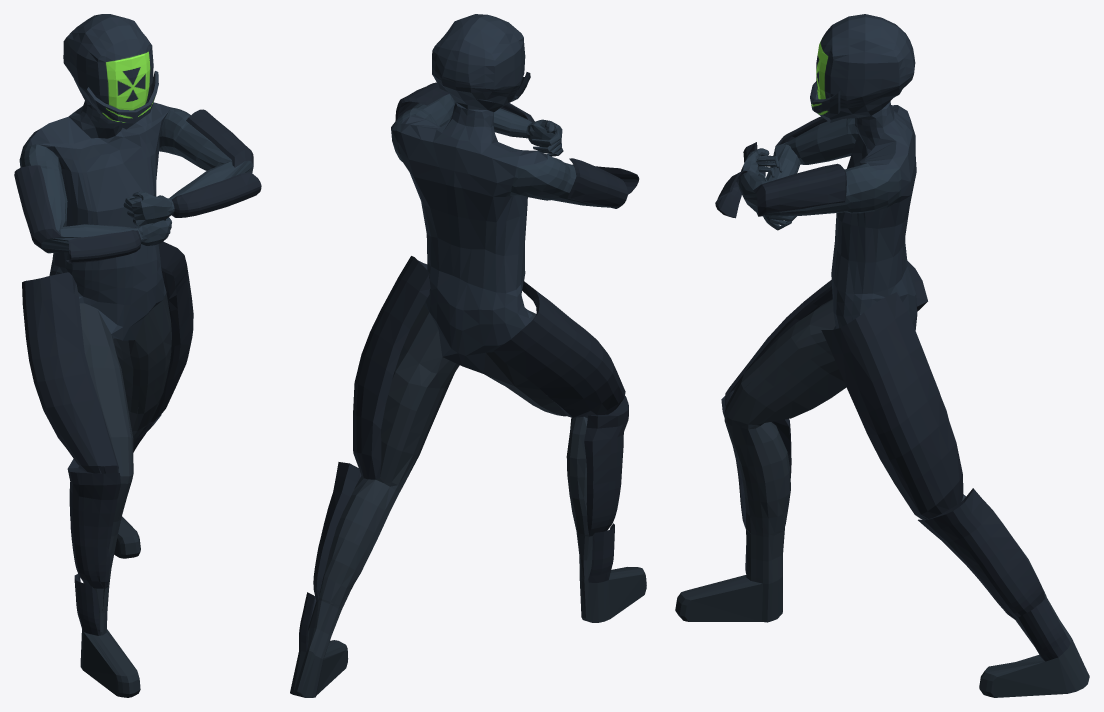
File: Bastion_Stun_Recover_000025.obj
3 views of the same model, side by side, from view 1: azimuth 30°, elevation 25°; view 2: azimuth 150°, elevation 25°; view 3: azimuth 270°, elevation 25° (orthographic). The views are drawn at different scales.
Visible parts, largest first — view 1: Cube.002; view 2: Cube.002; view 3: Cube.002.
Part boxes in pixels (x1,y1,x2,y2): Cube.002: (14, 14, 261, 697); Cube.002: (290, 14, 646, 697); Cube.002: (675, 14, 1089, 697).
Size of the model in its own units: 1.31 by 3.6 by 2.13.
